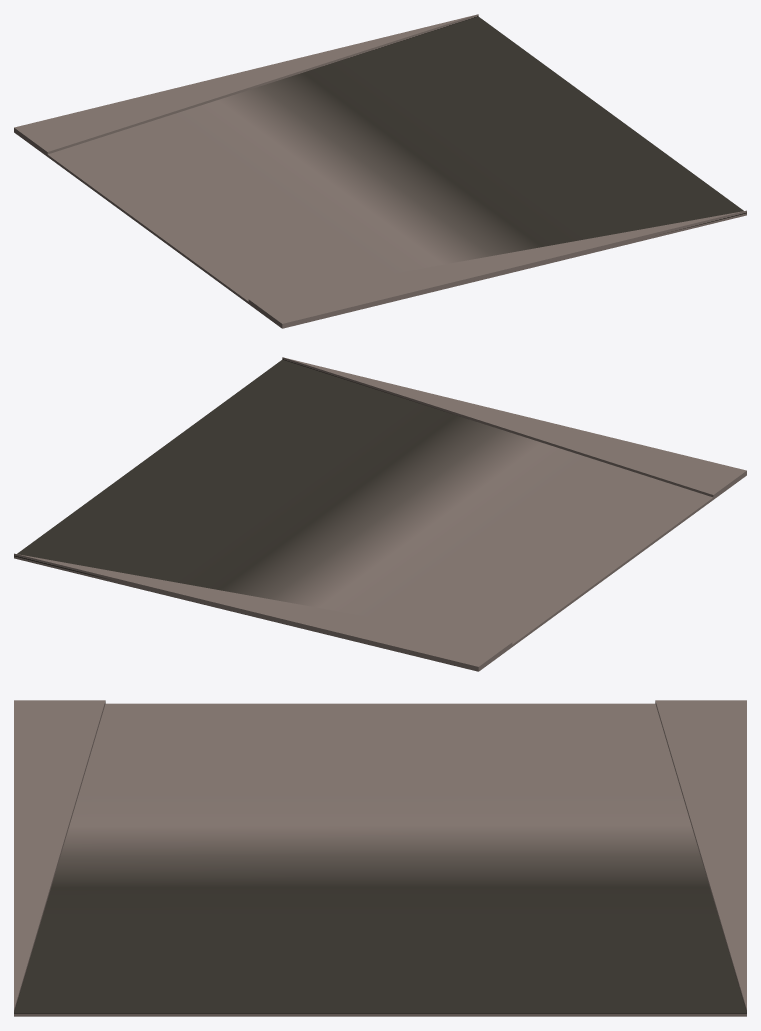
Rendered from Env_3lane_To_2lane_col.fbx.
3 renders of one model, top to bottom at view 1: azimuth 30°, elevation 25°; view 2: azimuth 150°, elevation 25°; view 3: azimuth 270°, elevation 25°, orthographic. The views are drawn at different scales.
Visible parts, largest first — view 1: Env_3lane_To_2lane_col; view 2: Env_3lane_To_2lane_col; view 3: Env_3lane_To_2lane_col.
Part boxes in pixels (left/top/right/bottom): Env_3lane_To_2lane_col: left=14, top=14, right=746, bottom=328; Env_3lane_To_2lane_col: left=14, top=357, right=746, bottom=671; Env_3lane_To_2lane_col: left=14, top=700, right=746, bottom=1016.
Size of the model in its own units: 2000 by 20 by 2000.
